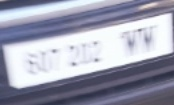w: (139, 22, 159, 52), (119, 29, 141, 54)
